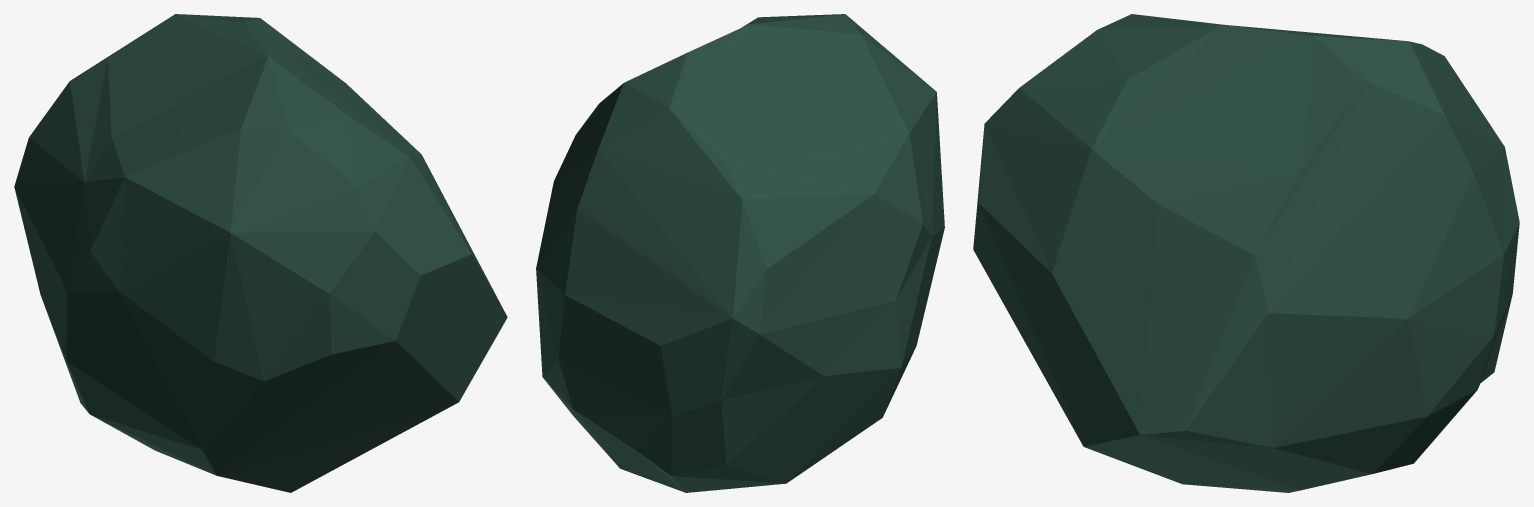
File: SM_large_rock_48.fbx
The picture shows the model from 3 angles, left to right: view 1: azimuth 30°, elevation 25°; view 2: azimuth 150°, elevation 25°; view 3: azimuth 270°, elevation 25°; orthographic projection. The views are drawn at different scales.
Parts seen in each view (by area): view 1: large_rock_48; view 2: large_rock_48; view 3: large_rock_48.
Boxes of the visible parts, x1,y1,x2,y2 form: large_rock_48: (14, 14, 507, 492); large_rock_48: (536, 14, 944, 492); large_rock_48: (973, 14, 1519, 492).
Bounding box in the file's own units: 75.86 × 82.61 × 86.56.
